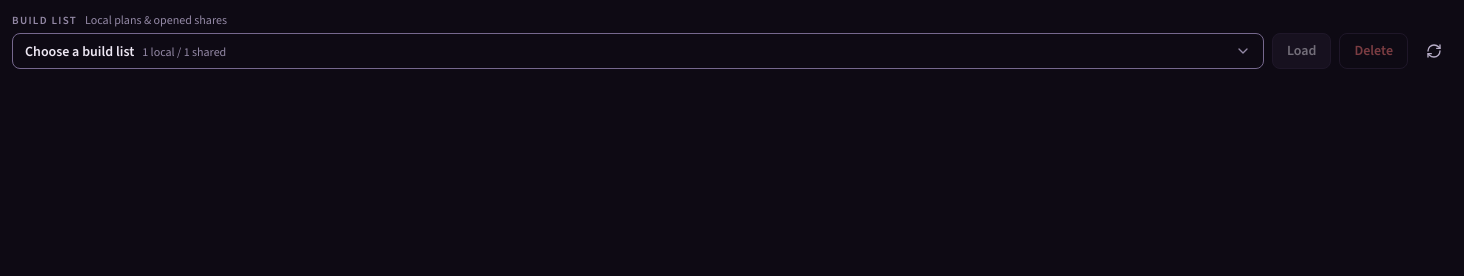
Test: BuildListSelector › shows recent non-shared auto-saves as your lists
Click the button with aria-label "select build list".
click(80, 51)  # box [12,33,1264,69]
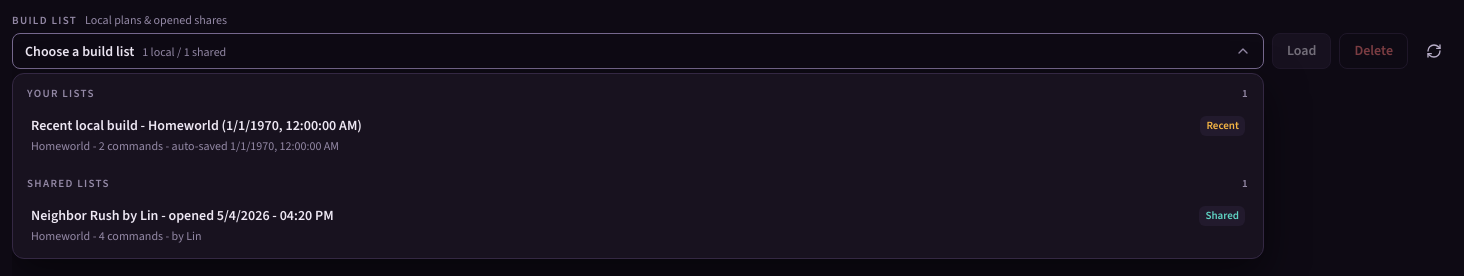
Now the option "Recent local build - Homeworld" is shown, box [19,108,1257,162]
Now the text "Neighbor Rush by Lin - opened 5/4/2026 - 04:20 PM" is shown, box [31,206,334,226]
